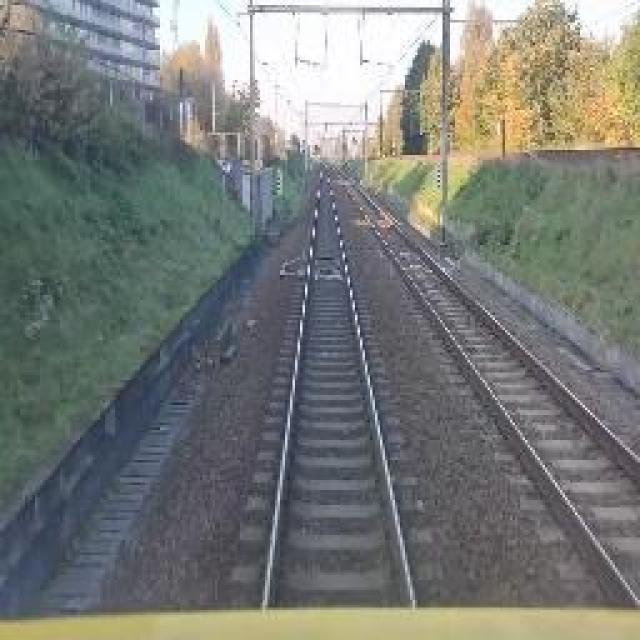rail: (217, 160, 439, 623)
